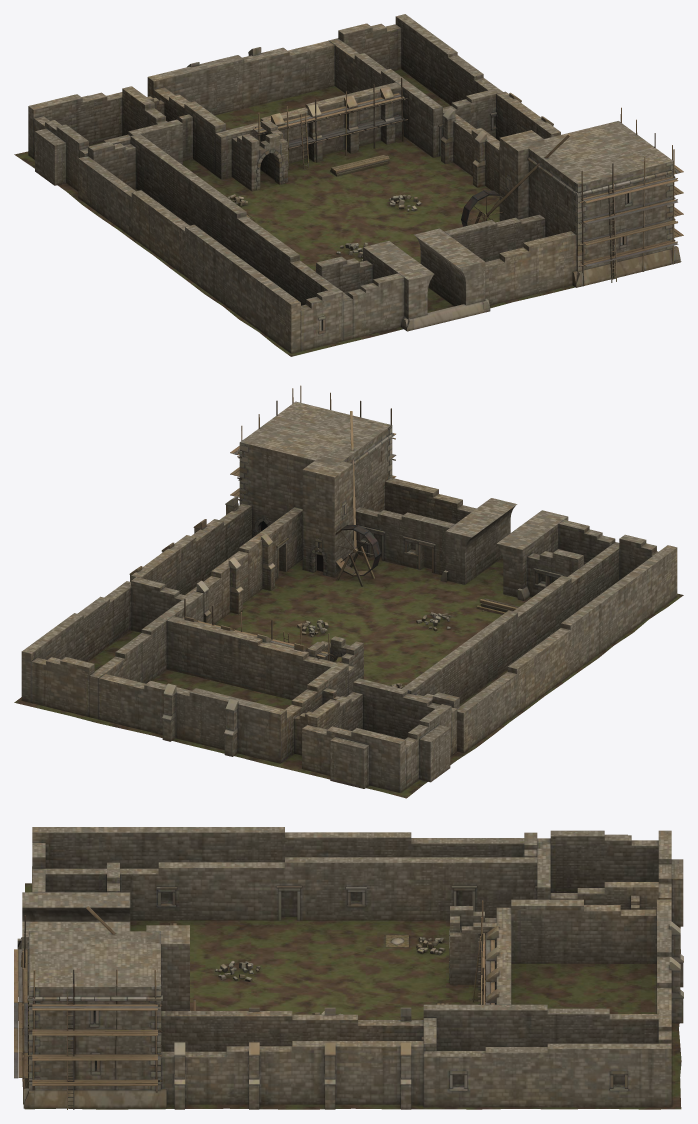
File: palace_build2.glb
The picture shows the model from 3 angles, top to bottom: view 1: azimuth 30°, elevation 25°; view 2: azimuth 150°, elevation 25°; view 3: azimuth 270°, elevation 25°; orthographic projection. The views are drawn at different scales.
Visible parts, largest first — view 1: palace_build2_LOD0; view 2: palace_build2_LOD0; view 3: palace_build2_LOD0.
Part boxes in pixels (x1,y1,x2,y2): palace_build2_LOD0: [14, 14, 683, 356]; palace_build2_LOD0: [14, 385, 683, 798]; palace_build2_LOD0: [14, 827, 683, 1109].
Size of what is drawn, in the model's own units: 37.36 by 11.71 by 45.9.
Materials: 1 (1 with a texture image).
